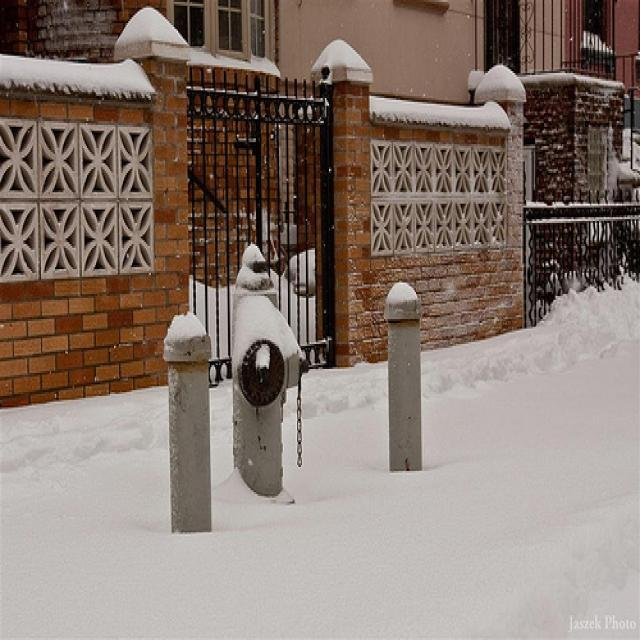fire_hydrant: (229, 242, 309, 496)
